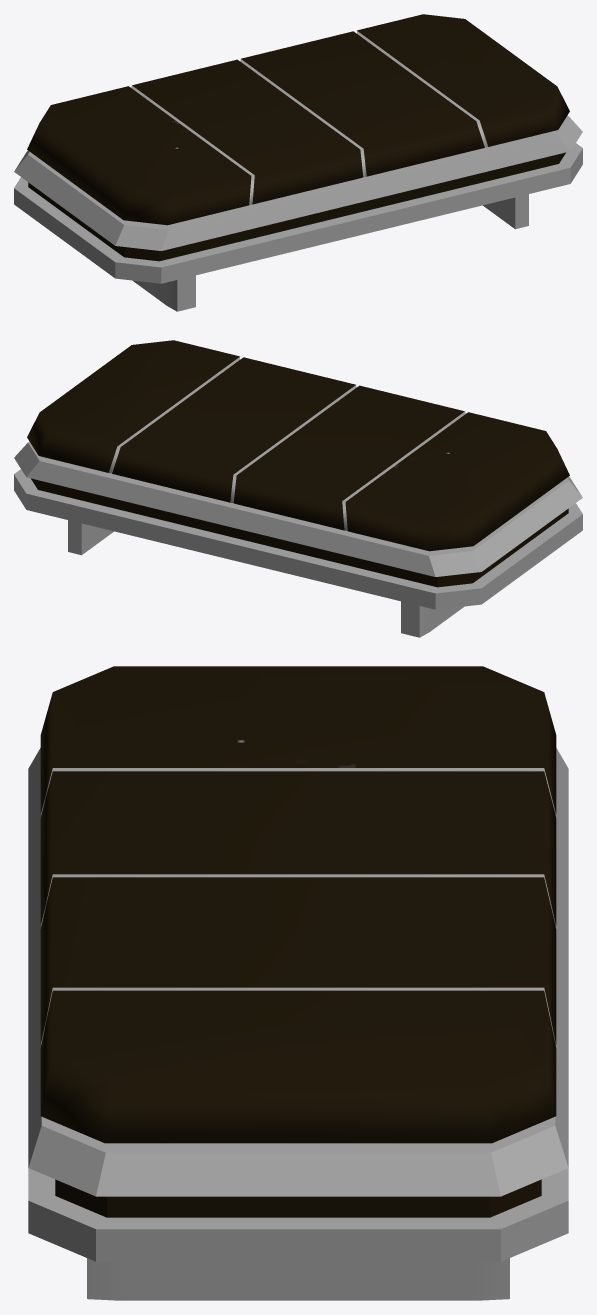
File: Bench.fbx
3 renders of one model, top to bottom at view 1: azimuth 30°, elevation 25°; view 2: azimuth 150°, elevation 25°; view 3: azimuth 270°, elevation 25°, orthographic. The views are drawn at different scales.
Parts seen in each view (by area): view 1: Bench; view 2: Bench; view 3: Bench.
Boxes of the visible parts, <box> form: Bench: <box>14,14,582,311</box>; Bench: <box>14,340,582,637</box>; Bench: <box>28,666,568,1300</box>.
Size of the model in its own units: 600 by 154 by 300.
1 material, 1 textured.
